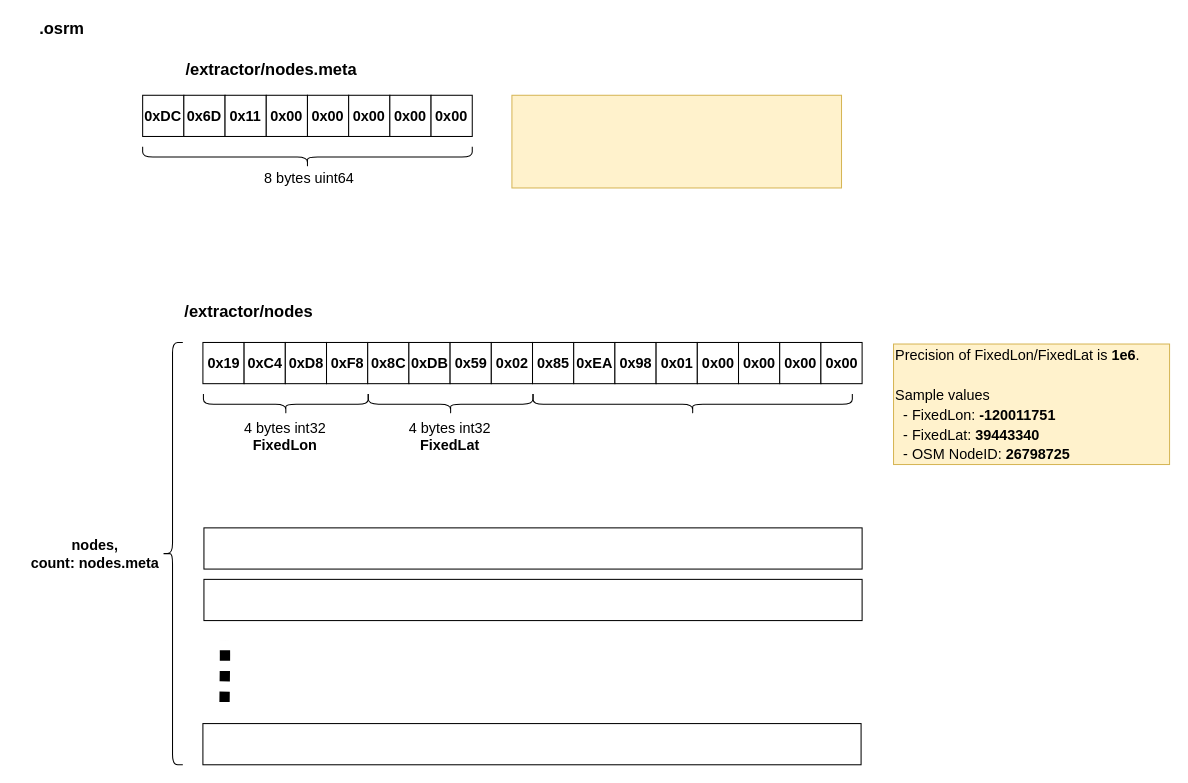
Some shapes in this 1188 by 783 pixel diagram are drawn without their labels. Each missing label, with the box of its shape:
8 bytes uint64 OSM NodeID: (532, 393, 852, 415)
Indicates how many nodes stored in /extractor/nodes Sample value: 1142236: (511, 94, 842, 188)
